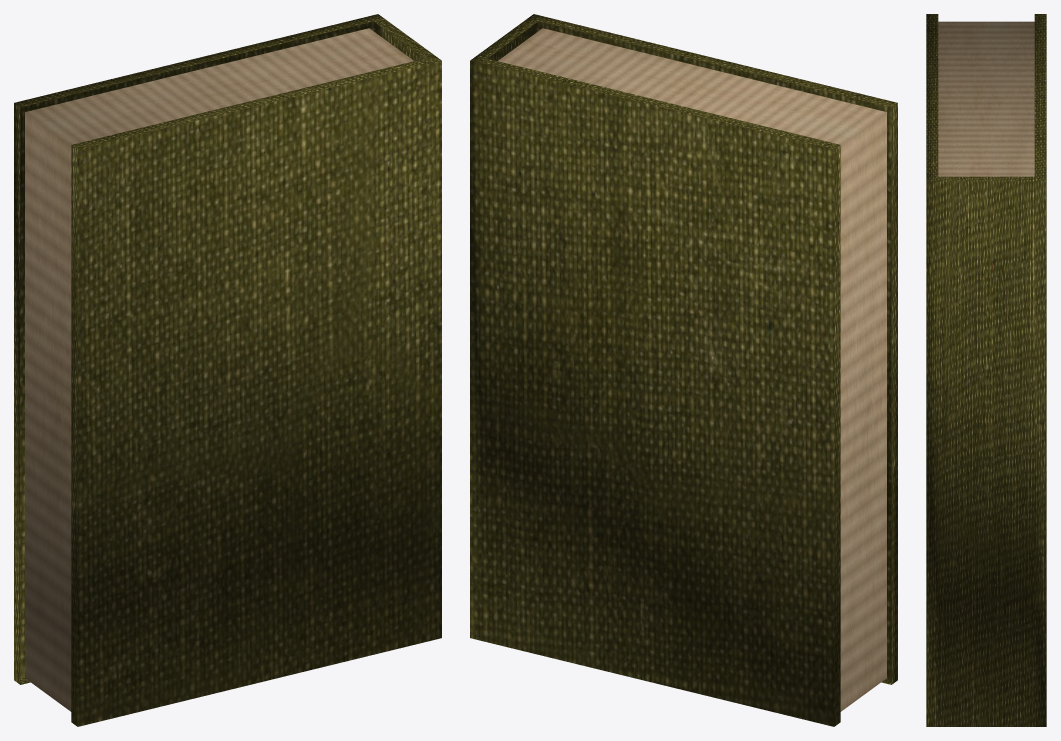
File: Libro_Fix.fbx
3 views of the same model, side by side, from view 1: azimuth 30°, elevation 25°; view 2: azimuth 150°, elevation 25°; view 3: azimuth 270°, elevation 25° (orthographic). The views are drawn at different scales.
Parts seen in each view (by area): view 1: Cube.039; view 2: Cube.039; view 3: Cube.039.
Part boxes in pixels (x1,y1,x2,y2): Cube.039: (14, 14, 441, 726); Cube.039: (470, 14, 897, 726); Cube.039: (926, 14, 1046, 726).
Bounding box in the file's own units: 33 × 50 × 10.
